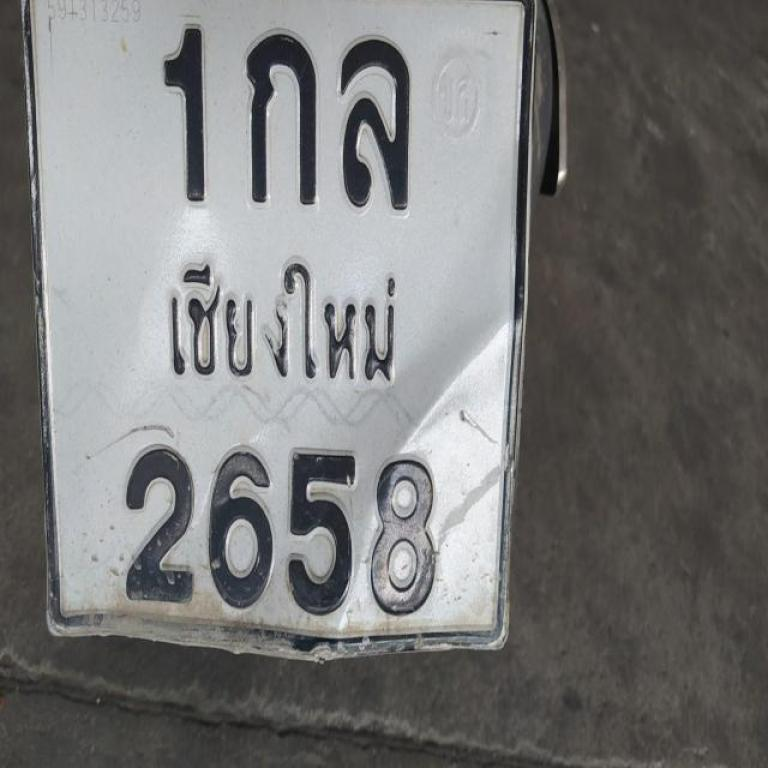license plate: (23, 0, 564, 658)
